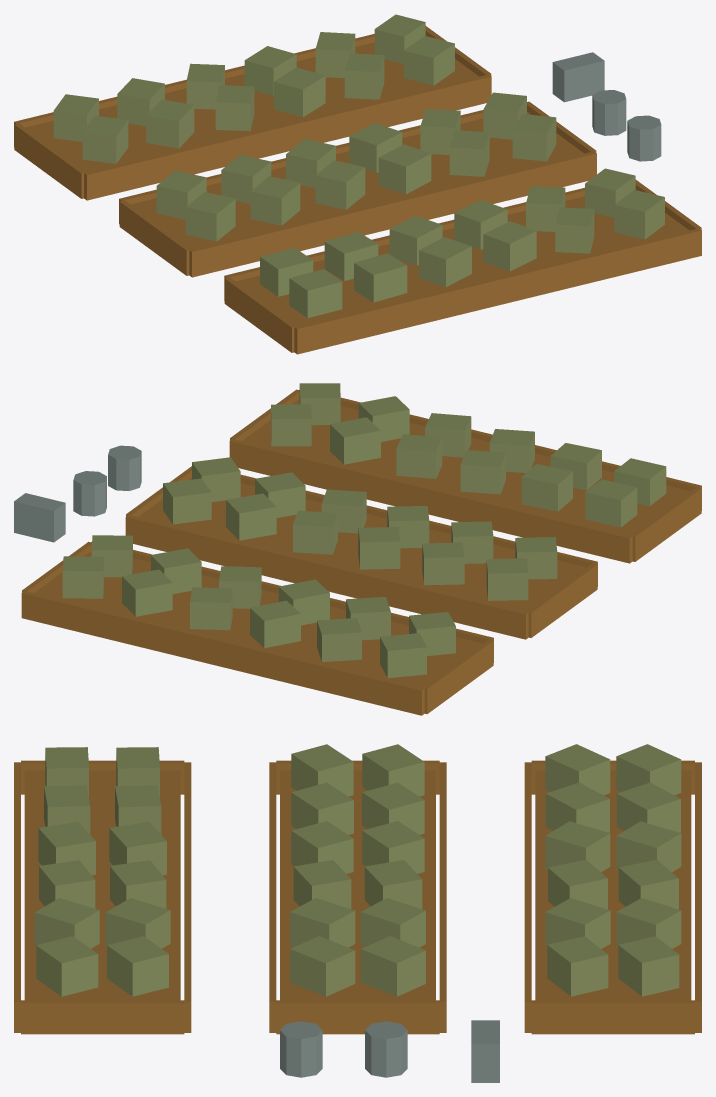
Rendered from SM_Bancales_v2_Regadera_LOD0.fbx.
3 views of the same model, one above another, from view 1: azimuth 30°, elevation 25°; view 2: azimuth 150°, elevation 25°; view 3: azimuth 270°, elevation 25° (orthographic). The views are drawn at different scales.
Parts seen in each view (by area): view 1: SM_vida_fuerte_v12_LOD0; view 2: SM_vida_fuerte_v12_LOD0; view 3: SM_vida_fuerte_v12_LOD0.
Boxes of the visible parts, x1,y1,x2,y2 form: SM_vida_fuerte_v12_LOD0: [14, 14, 701, 354]; SM_vida_fuerte_v12_LOD0: [14, 383, 701, 715]; SM_vida_fuerte_v12_LOD0: [14, 744, 701, 1082].
Bounding box in the file's own units: 4.93 × 0.46 × 4.85.
